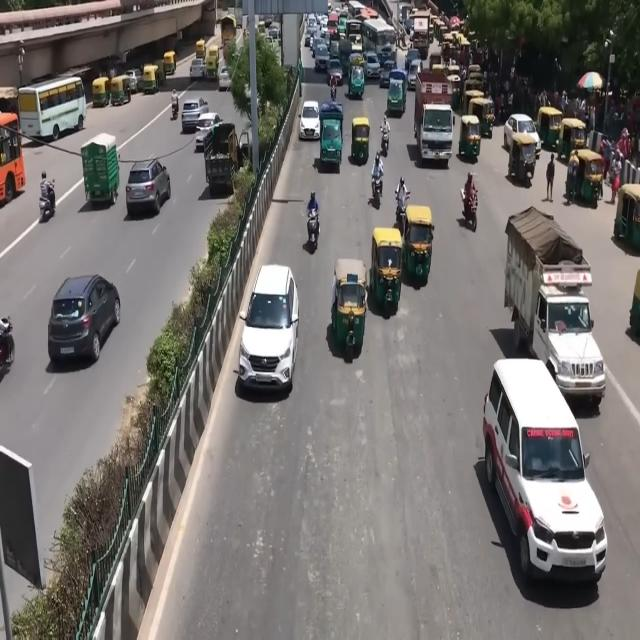auto: (330, 259, 368, 354), (370, 227, 404, 314), (80, 132, 118, 206), (203, 121, 240, 195), (403, 205, 434, 283), (566, 147, 604, 205), (614, 181, 640, 251), (319, 102, 343, 166), (512, 129, 537, 186), (558, 117, 586, 162), (536, 106, 562, 151), (458, 114, 481, 161), (468, 96, 492, 141), (351, 116, 370, 163), (109, 75, 132, 106), (140, 64, 160, 94), (464, 77, 483, 108), (92, 77, 110, 109), (446, 74, 462, 109), (205, 44, 220, 79), (163, 51, 177, 76), (196, 39, 207, 62)
bike-auto: (461, 183, 478, 231), (395, 176, 411, 224), (38, 180, 56, 221), (306, 205, 320, 248), (371, 152, 384, 197), (380, 116, 390, 152), (171, 88, 179, 118)
